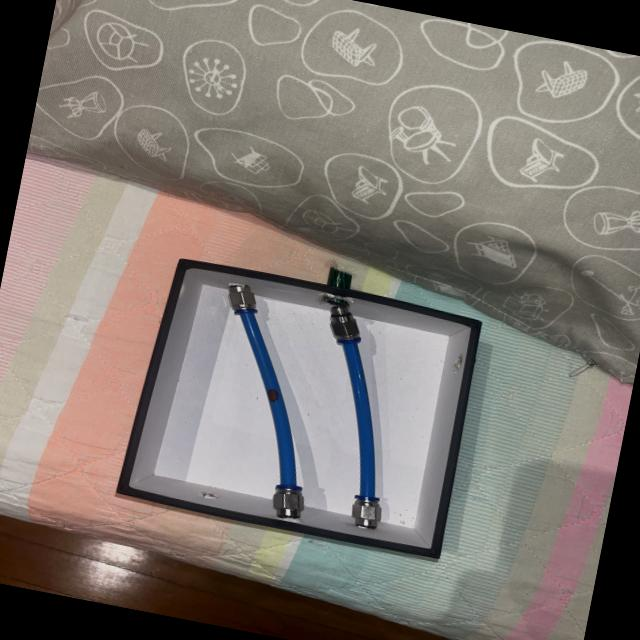hose_damage: (266, 388, 280, 404)
